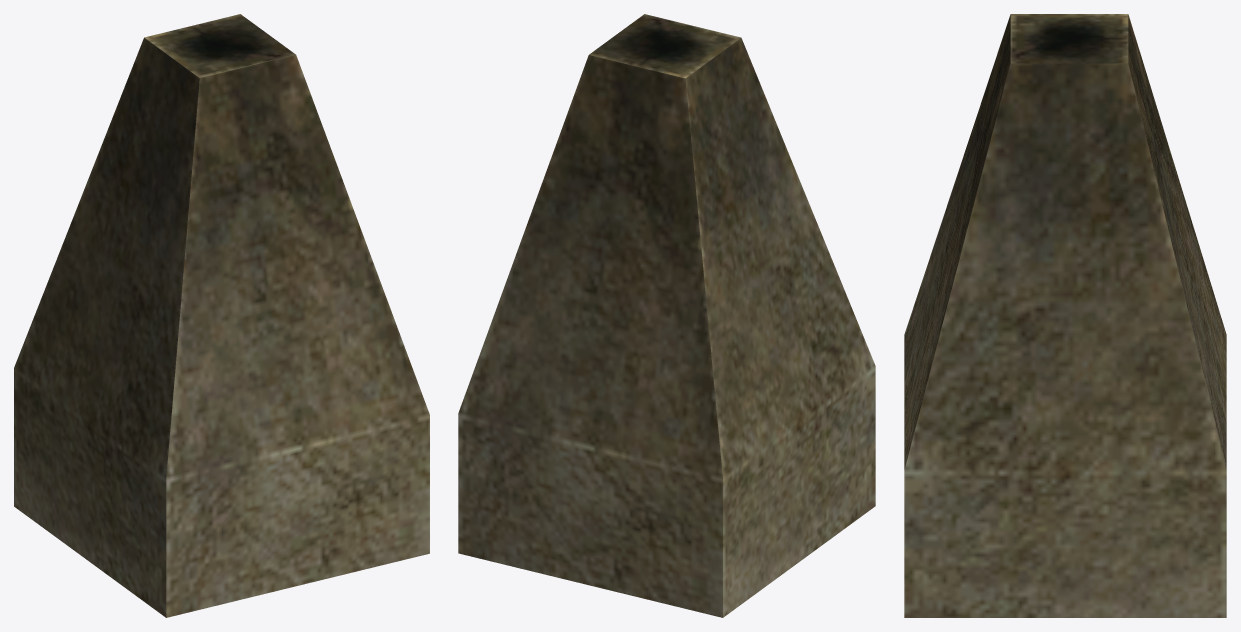
Rendered from hrt_pipe1.glb.
The picture shows the model from 3 angles, left to right: view 1: azimuth 30°, elevation 25°; view 2: azimuth 150°, elevation 25°; view 3: azimuth 270°, elevation 25°; orthographic projection. The views are drawn at different scales.
Visible parts, largest first — view 1: hrt_pipe1; view 2: hrt_pipe1; view 3: hrt_pipe1.
Part boxes in pixels (box(x1,y1,x2,y2)): hrt_pipe1: box(14, 14, 429, 617); hrt_pipe1: box(458, 14, 875, 617); hrt_pipe1: box(904, 14, 1226, 617).
Size of the model in its own units: 0.7983 by 1.4 by 0.7984.
Materials: 1 (1 with a texture image).
